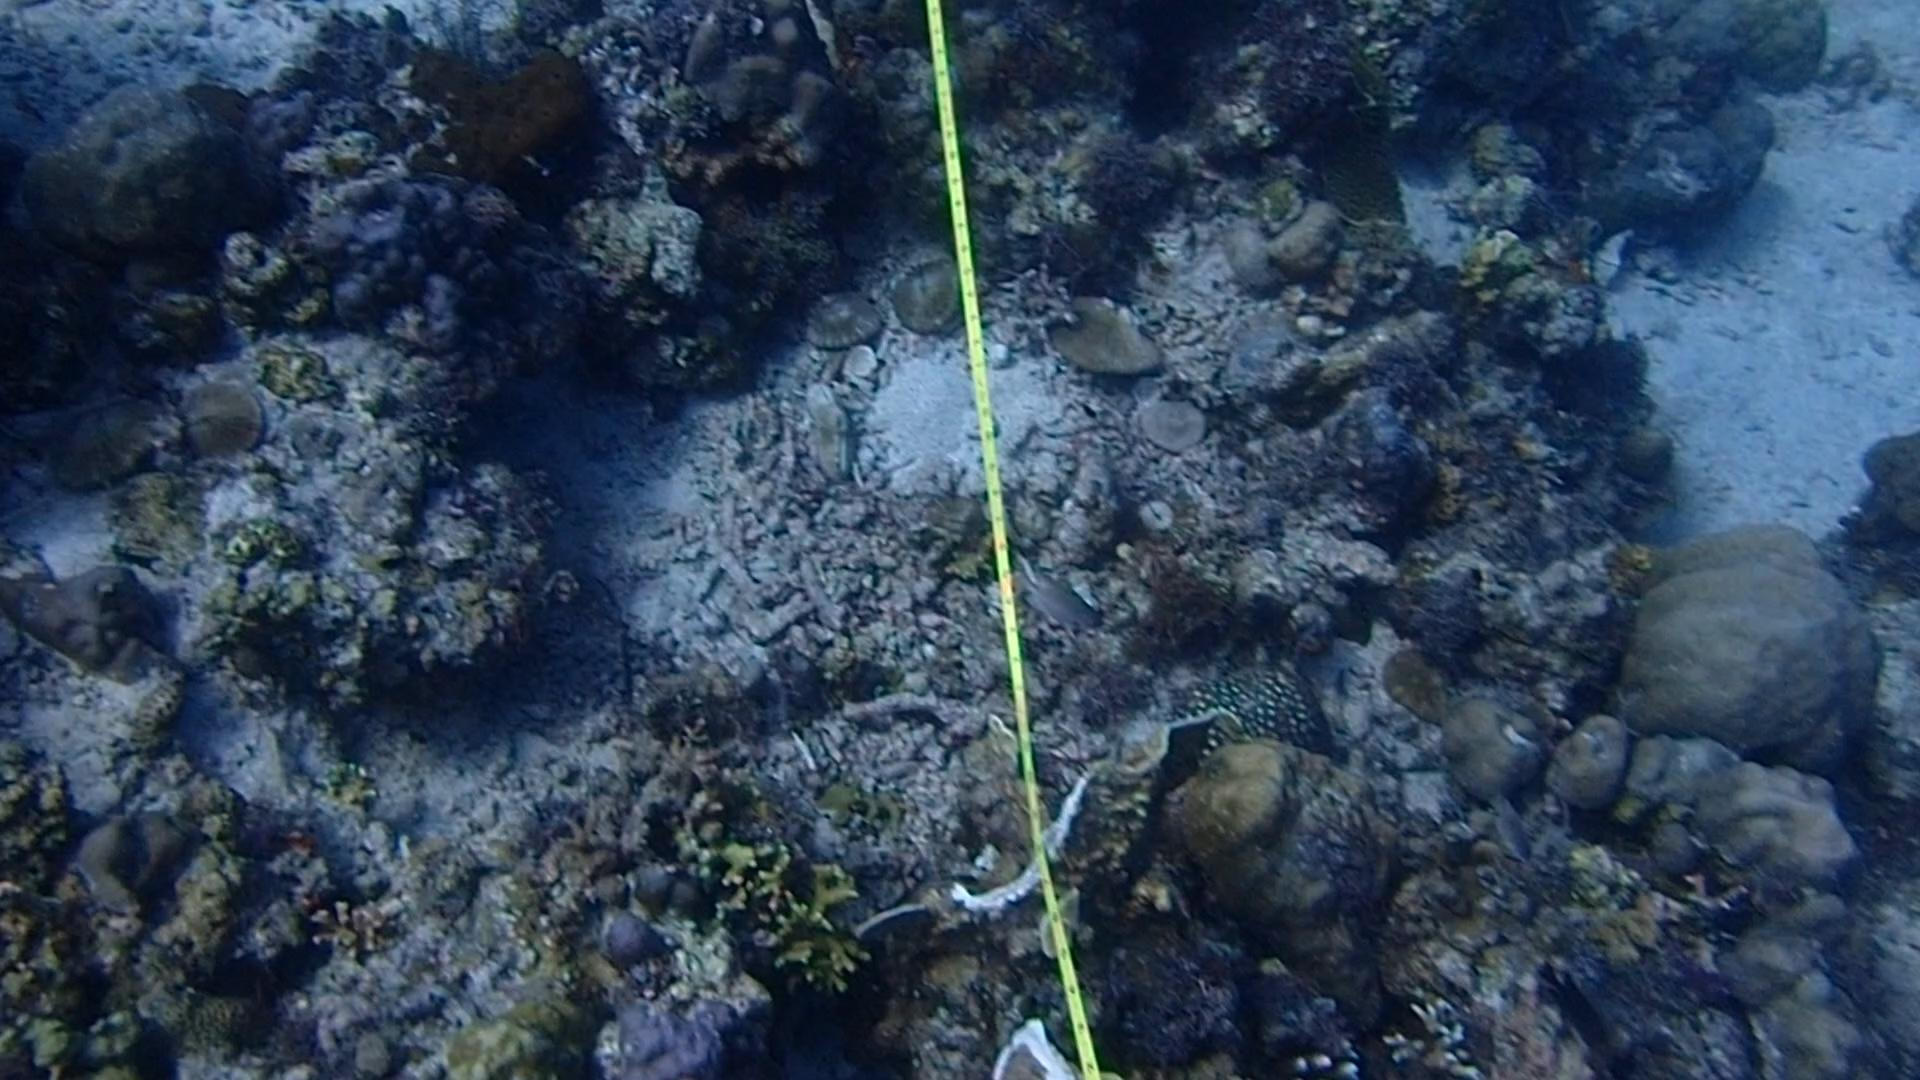Light Fish: (1001, 549, 1110, 653)
